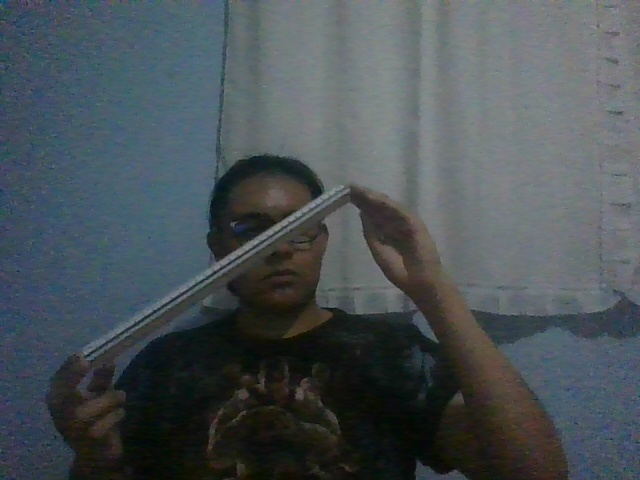regla: (82, 185, 350, 367)
